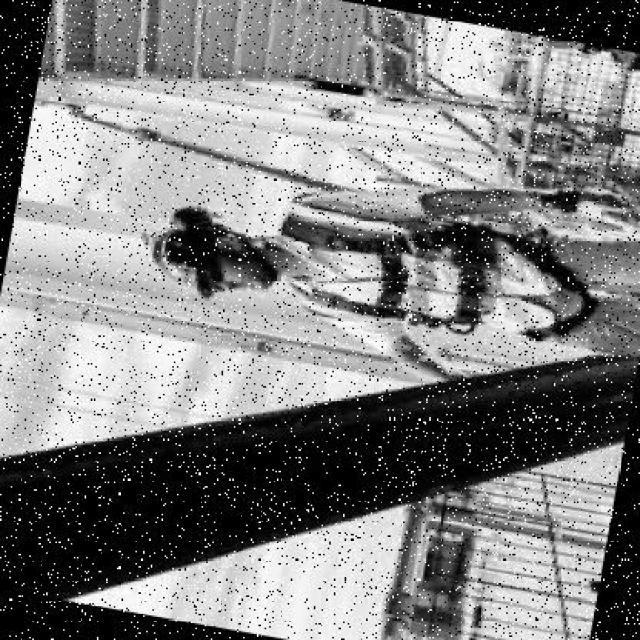Arnes_seguridad: (264, 180, 607, 360)
